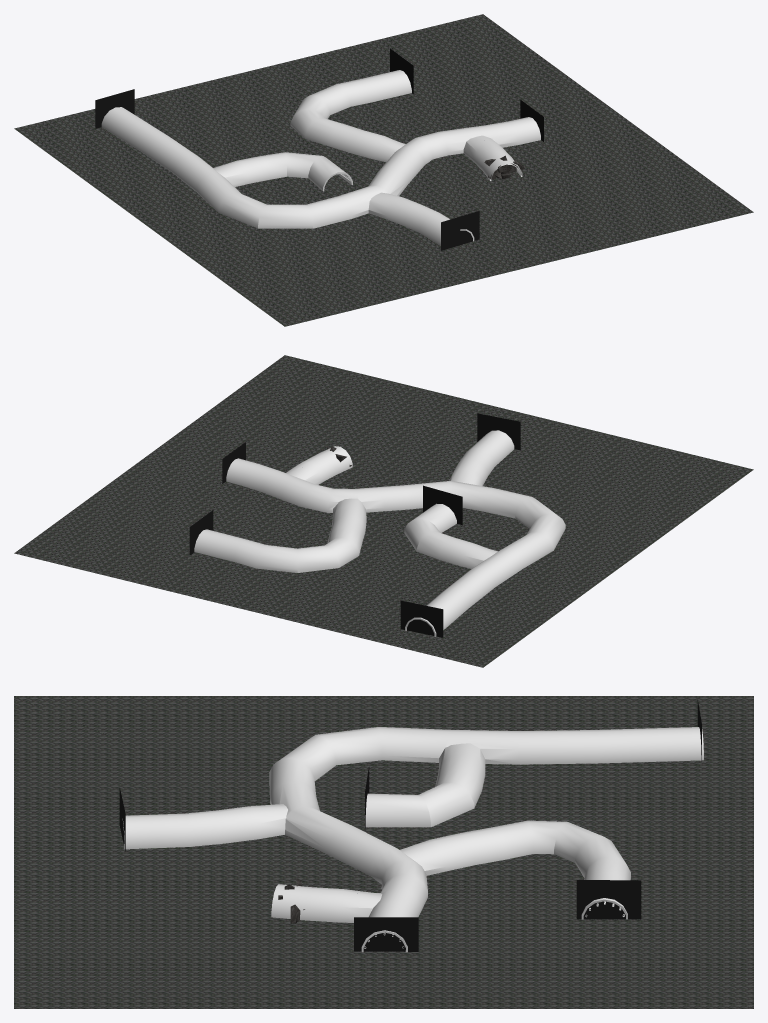
Rendered from Surface Tunnels.fbx.
3 views of the same model, one above another, from view 1: azimuth 30°, elevation 25°; view 2: azimuth 150°, elevation 25°; view 3: azimuth 270°, elevation 25° (orthographic). The views are drawn at different scales.
Visible parts, largest first — view 1: Plane, Circle, Circle.002, Circle.004, Circle.003, Circle.001, Plane.001, Plane.004; view 2: Plane, Circle, Circle.002, Circle.004, Circle.003, Circle.001, Plane.004, Plane.001, Plane.002; view 3: Plane, Circle, Circle.002, Circle.004, Circle.003, Circle.001, Plane.003, Plane.005.
Boxes of the visible parts, box(x1,y1,x2,y2) form: Plane: box(14, 14, 753, 326); Circle: box(101, 107, 540, 228); Circle.002: box(290, 70, 411, 161); Circle.004: box(213, 152, 352, 191); Circle.003: box(368, 192, 474, 245); Circle.001: box(463, 135, 522, 180); Plane.001: box(441, 211, 479, 250); Plane.004: box(95, 89, 134, 128); Plane: box(14, 355, 753, 667); Circle: box(226, 458, 565, 636); Circle.002: box(194, 498, 366, 572); Circle.004: box(404, 503, 497, 568); Circle.003: box(449, 430, 514, 485); Circle.001: box(286, 446, 352, 484); Plane.004: box(400, 600, 443, 637); Plane.001: box(477, 413, 520, 450); Plane.002: box(423, 485, 462, 525); Plane: box(14, 696, 753, 1008); Circle: box(269, 727, 703, 952); Circle.002: box(400, 820, 630, 919); Circle.004: box(365, 743, 485, 827); Circle.003: box(122, 804, 287, 849); Circle.001: box(271, 884, 382, 922); Plane.003: box(576, 880, 641, 919); Plane.005: box(354, 917, 418, 951).
Size of the model in its own units: 3109 by 294 by 3109.
Materials: 9 (5 with a texture image).
